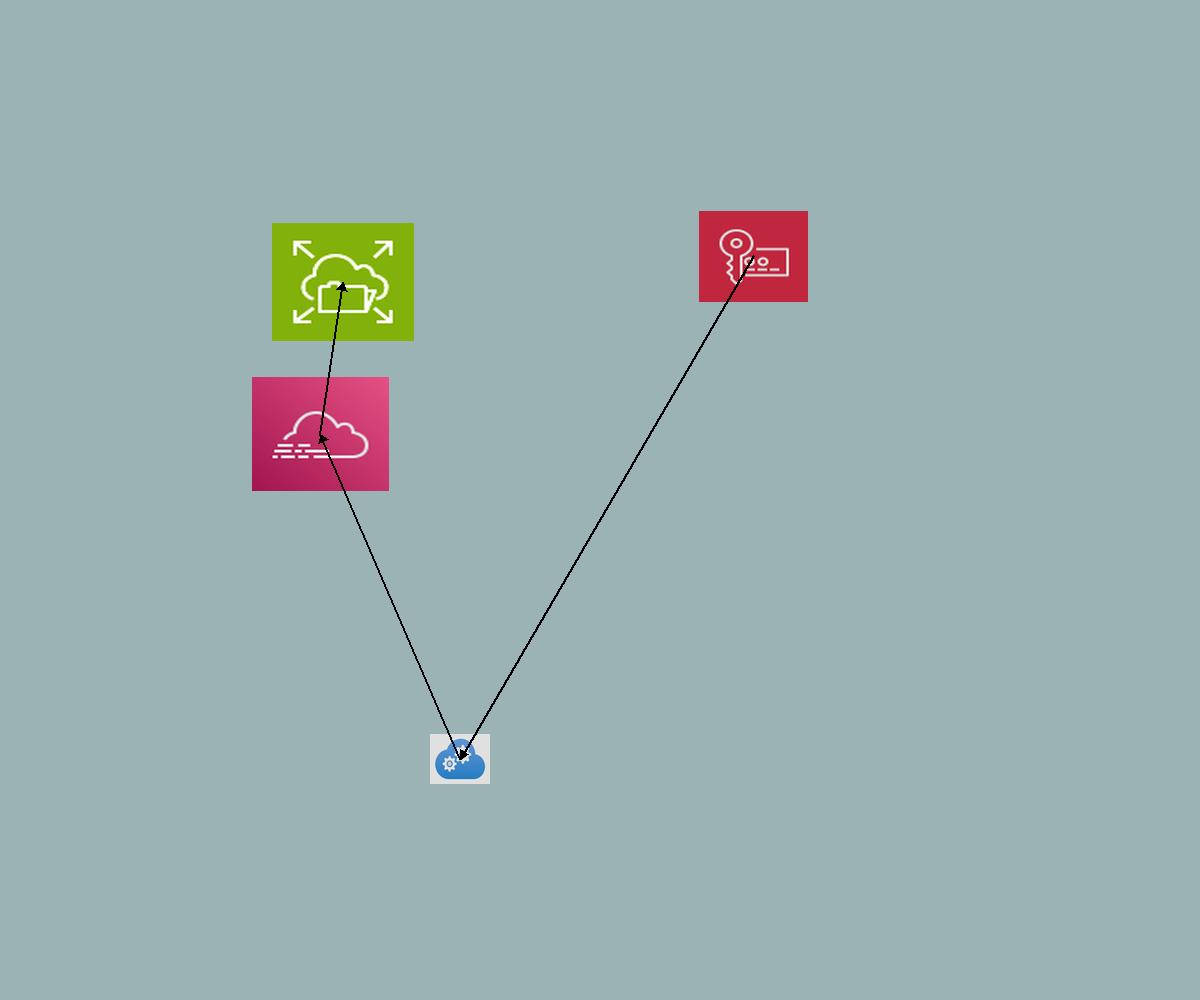AWS-CloudTrail: (252, 377, 389, 491)
AWS-EFS: (272, 223, 414, 341)
AWS-Key-Management-Service: (699, 211, 808, 302)
Azure_cloud_services: (430, 734, 490, 784)
